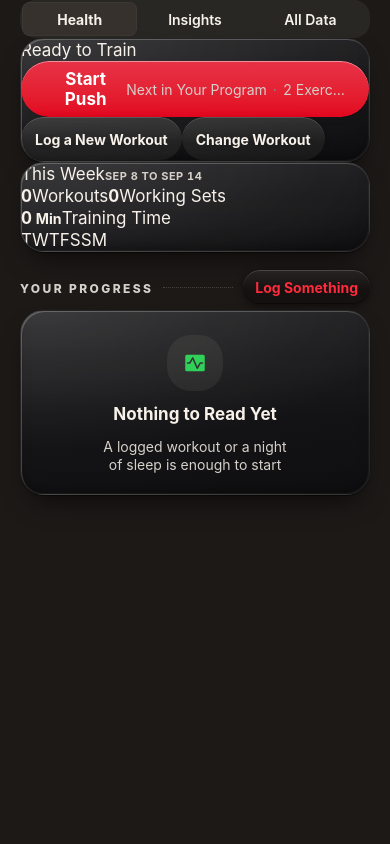
it: the Next Workout's exercise count › is the same plain fact on the sheet the Change Workout capsule opens
Click the button "Change Workout".
click(253, 139)  # box [182,117,325,161]
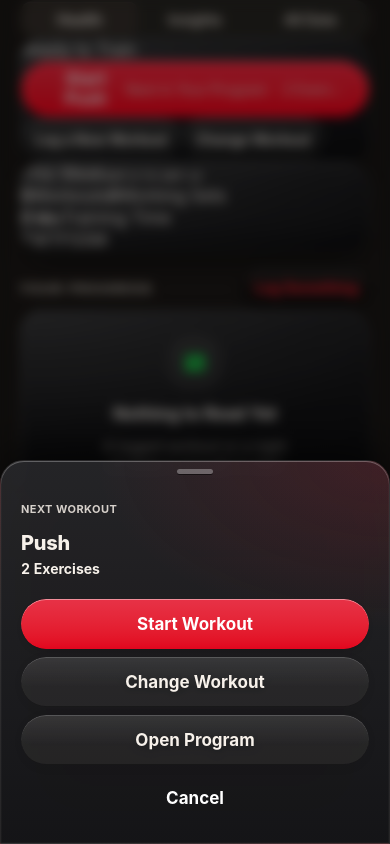
Result: the element with class "fact" showing "2 Exercises" is shown at [21,560,100,579]
